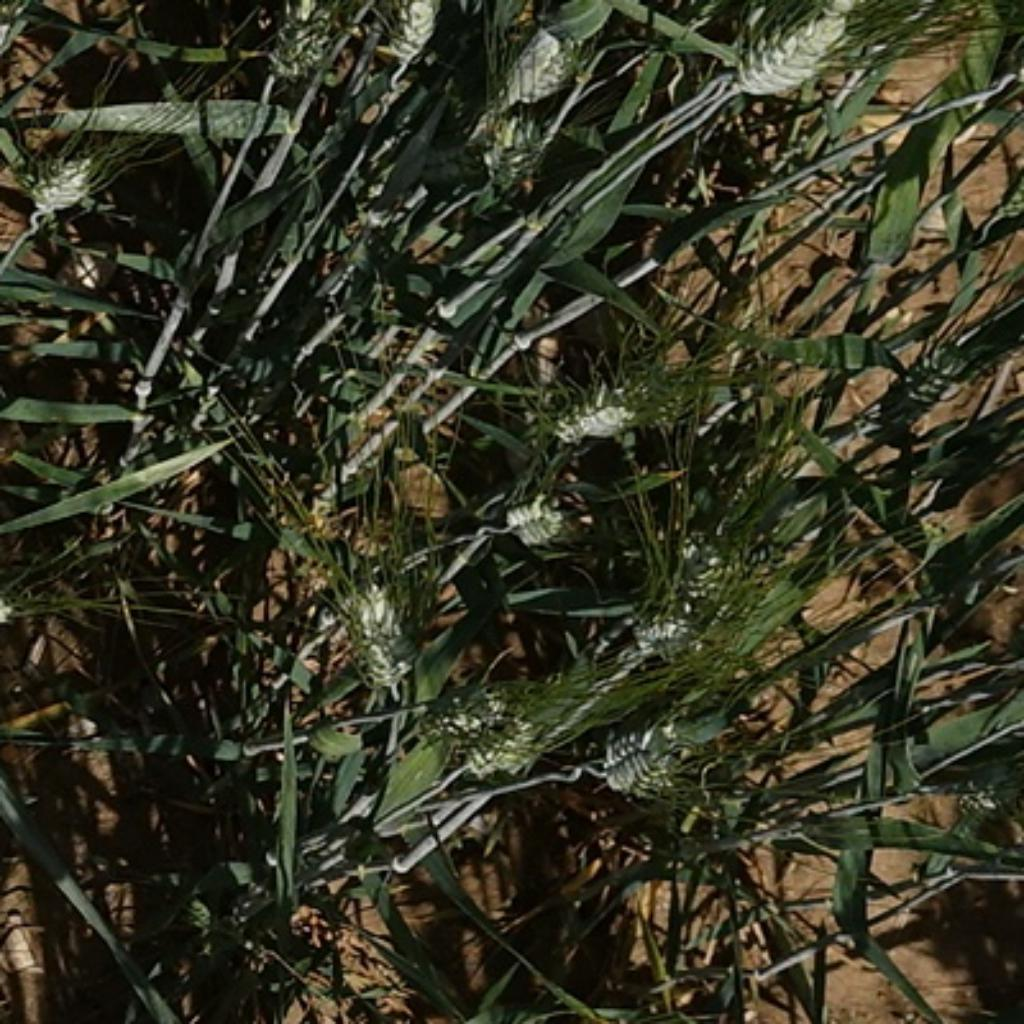0-0: (325, 550, 437, 686), (870, 324, 998, 431), (726, 7, 863, 102), (535, 366, 665, 455), (614, 596, 729, 683), (458, 89, 555, 189), (253, 2, 366, 87), (483, 12, 586, 102), (580, 717, 702, 792), (401, 663, 522, 737), (670, 518, 771, 606), (22, 150, 109, 227), (378, 2, 442, 99), (453, 721, 565, 775), (497, 489, 571, 550), (941, 778, 1007, 821)
